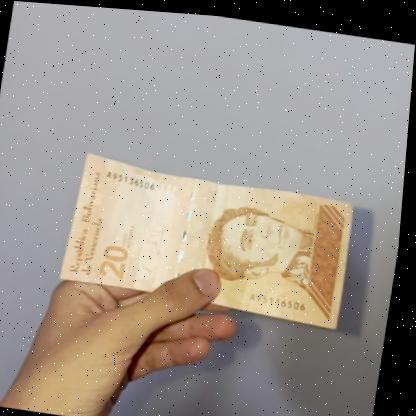twenty-front-vef: (60, 151, 361, 324)
